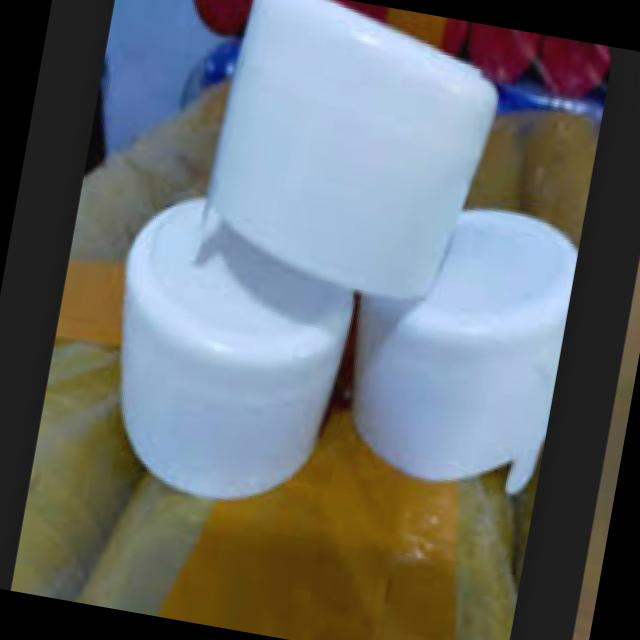TutupGalon: (104, 0, 614, 560)
